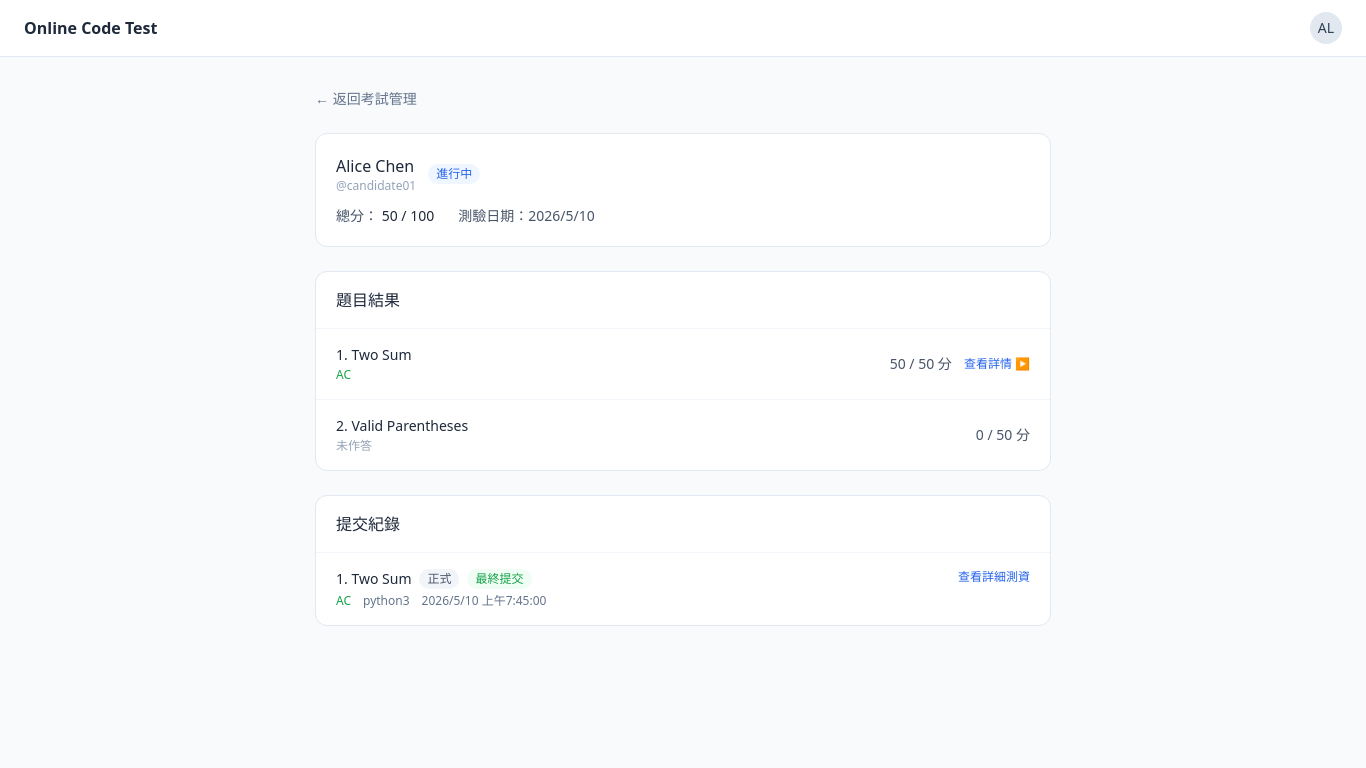
Test: ExamResultPage() › expands a history item and shows public and hidden testcase results
The image size is (1366, 768).
Click the button with aria-label "查看詳細測資：提交 2": [994, 577] box [958,569,1030,585]
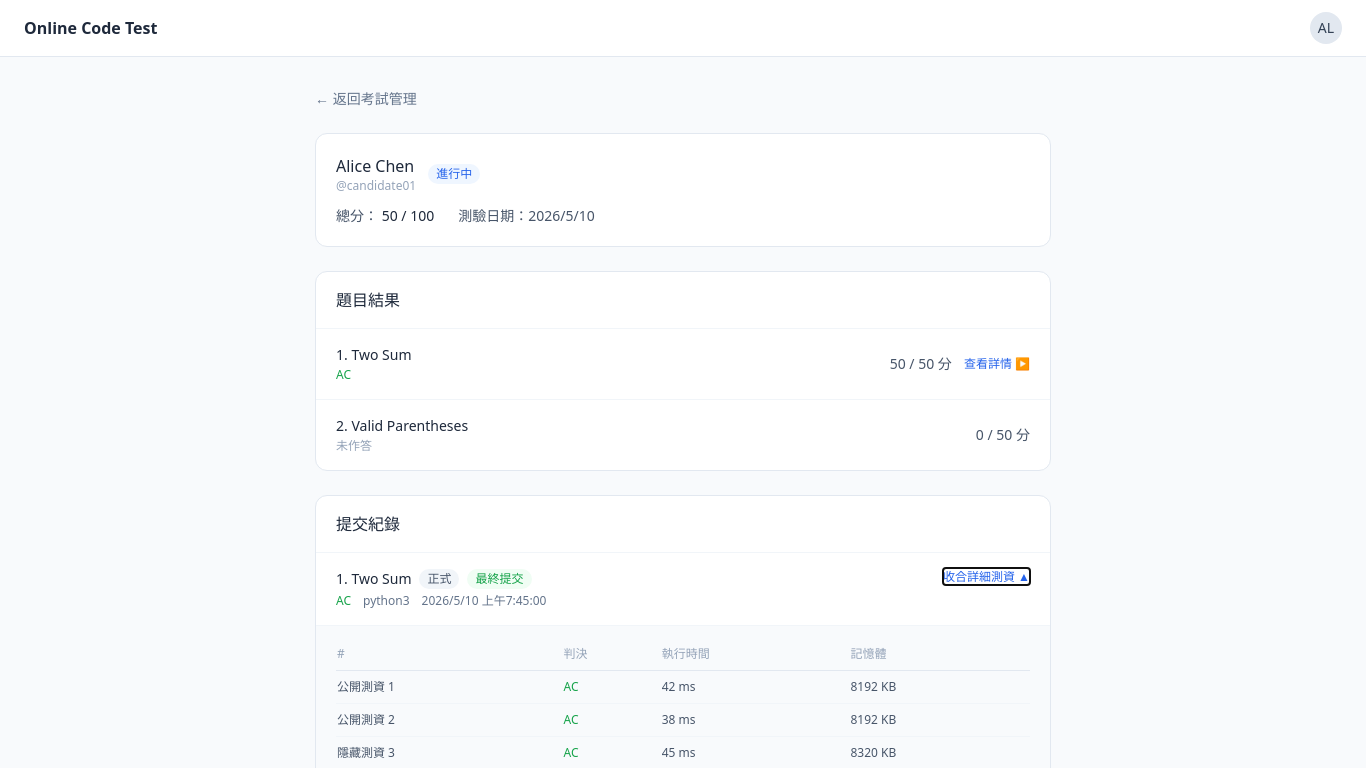
Check: the text "公開測資 1" is shown, box [336,670,562,704]
Check: the text "公開測資 2" is shown, box [336,704,562,736]
Check: the text "隱藏測資 3" is shown, box [336,736,562,767]
